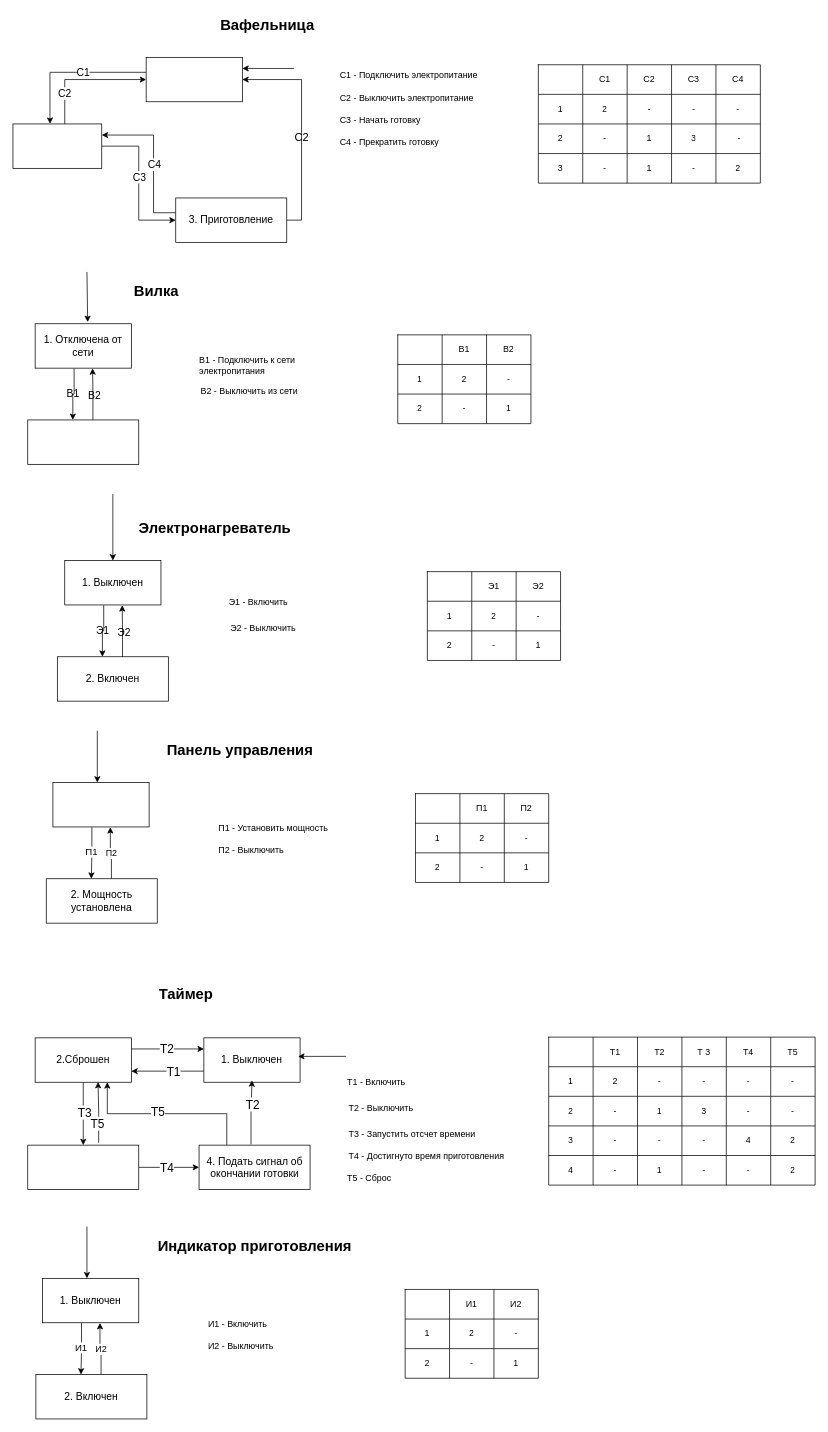
This 828x1432 diagram has some shape labels left out. Each missing label, with the centre of its shape:
"1. Выключена" belongs at pixel 193 79.
"1. Мощность не установлена" belongs at pixel 100 804.
"2. Включена в сеть" belongs at pixel 83 441.
"2. Ожидает запуска" belongs at pixel 57 145.
"3. Отсчитывает время готовки" belongs at pixel 83 1167.
